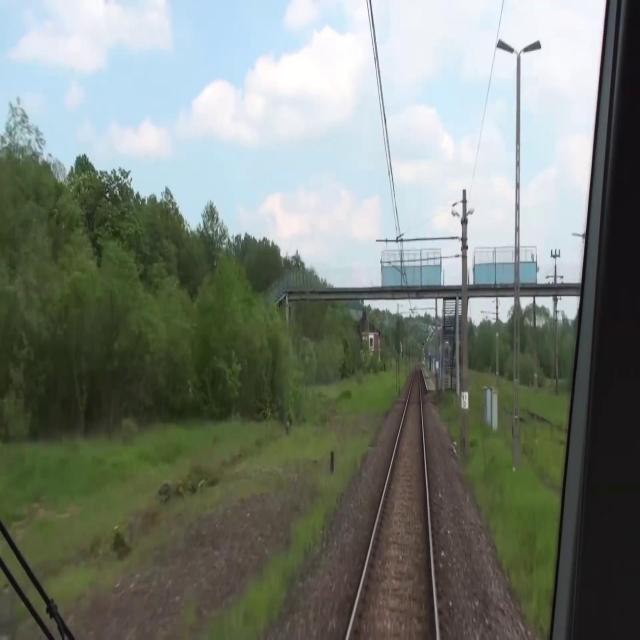rail-track: (350, 369, 434, 639)
